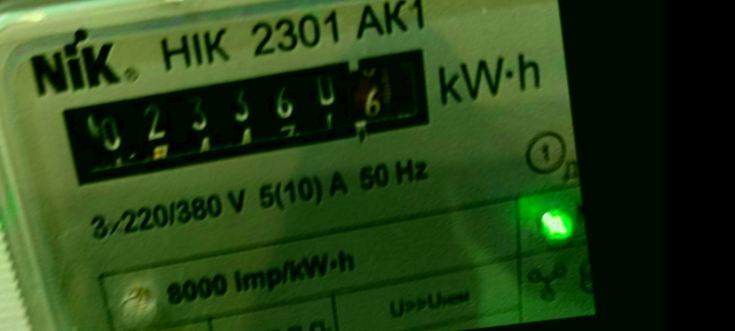0: (94, 111, 124, 156), (311, 71, 338, 110)
2: (137, 100, 168, 143)
3: (183, 93, 209, 135), (225, 86, 251, 126)
6: (267, 80, 297, 124), (360, 84, 385, 122)
screen: (36, 34, 448, 199)
